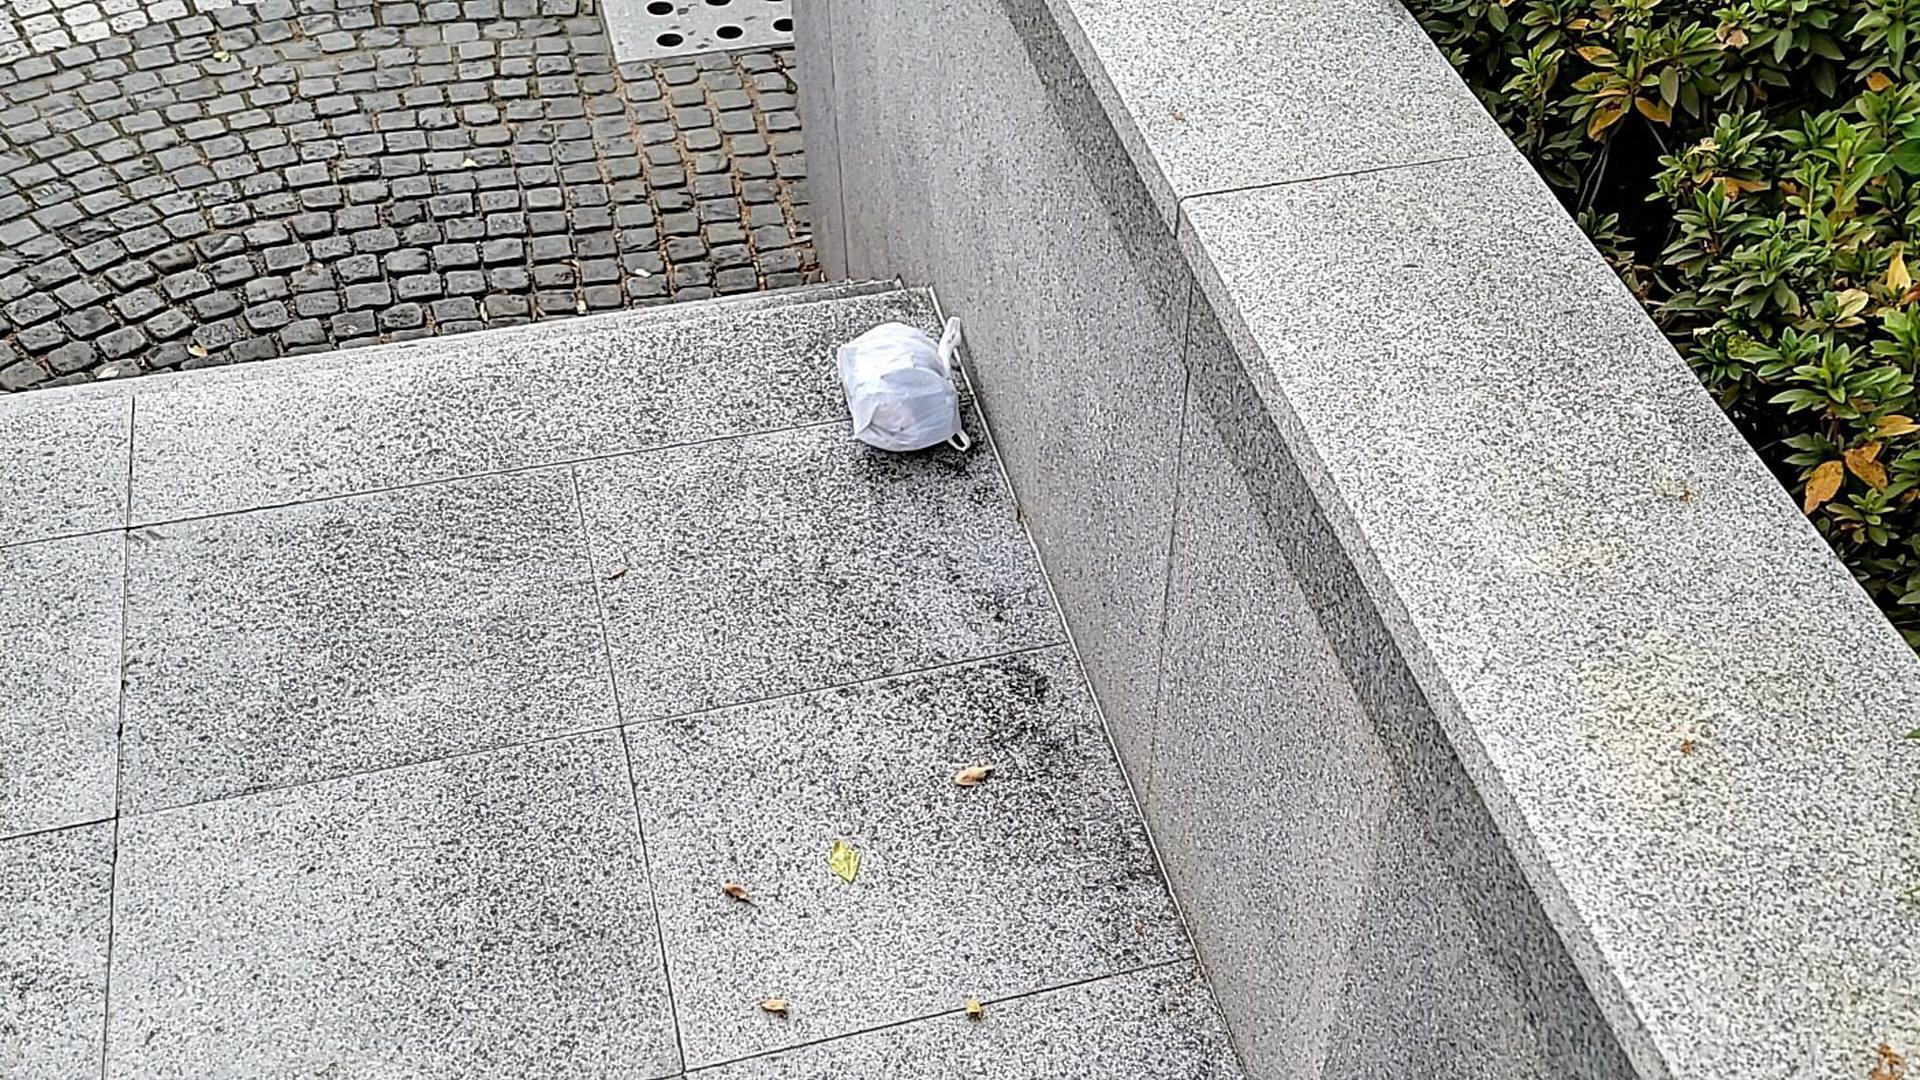white_bag: (825, 299, 980, 465)
